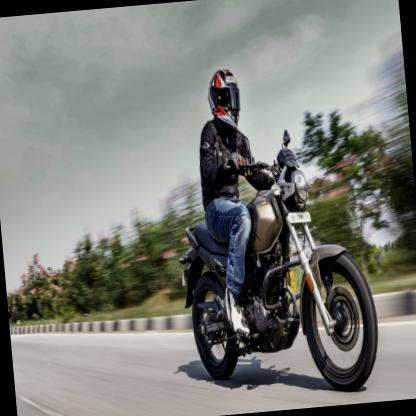motorcycle: (167, 56, 382, 404)
